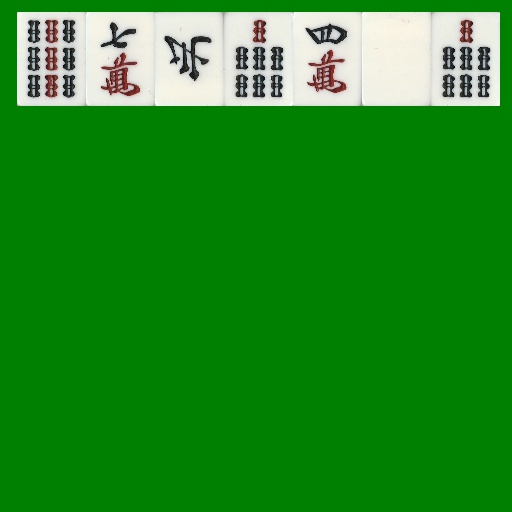4m: (293, 12, 362, 106)
7m: (86, 12, 155, 106)
7s: (224, 12, 293, 106), (431, 12, 500, 106)
9s: (17, 12, 86, 106)
north: (155, 12, 224, 106)
white: (362, 12, 431, 106)
